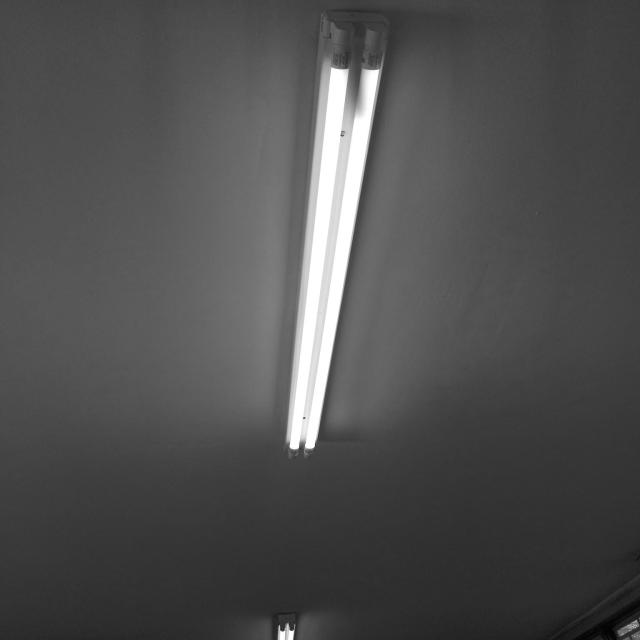light: (283, 9, 390, 459)
